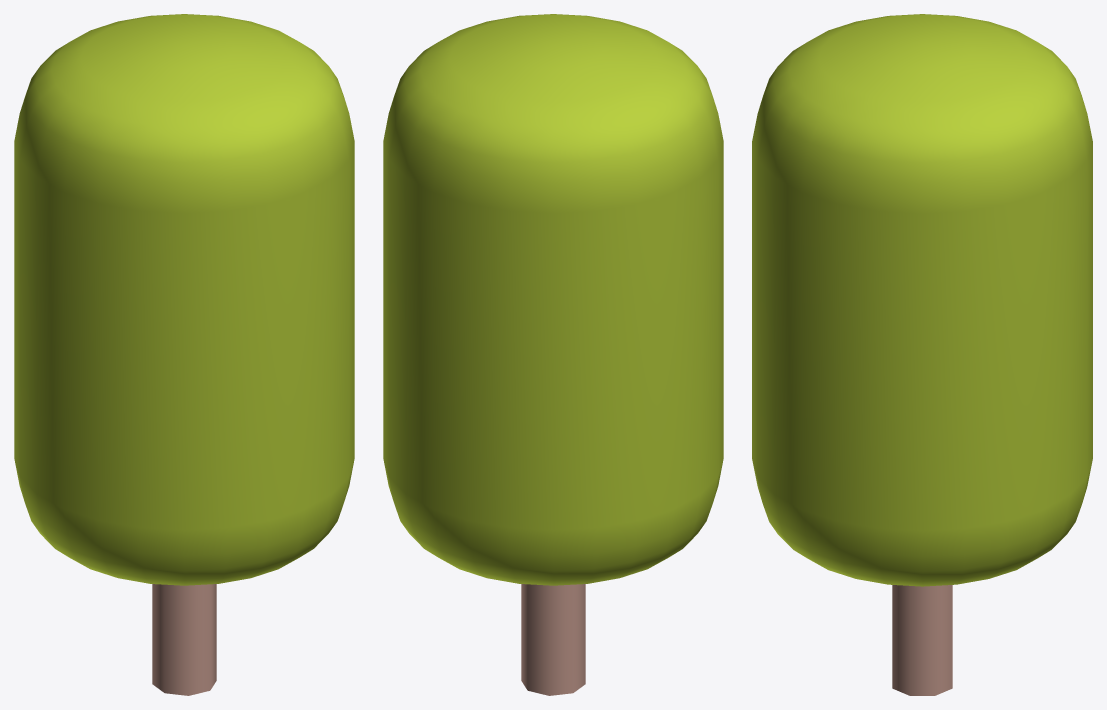
Rendered from CordylinePetiolaris.glb.
3 views of the same model, side by side, from view 1: azimuth 30°, elevation 25°; view 2: azimuth 150°, elevation 25°; view 3: azimuth 270°, elevation 25° (orthographic).
Parts seen in each view (by area): view 1: Palm_Lily__Schematic_LOD3; view 2: Palm_Lily__Schematic_LOD3; view 3: Palm_Lily__Schematic_LOD3.
Boxes of the visible parts, x1,y1,x2,y2 form: Palm_Lily__Schematic_LOD3: [14, 14, 354, 695]; Palm_Lily__Schematic_LOD3: [383, 14, 723, 695]; Palm_Lily__Schematic_LOD3: [752, 14, 1092, 695].
Size of the model in its own units: 1.88 by 3.88 by 1.88.
